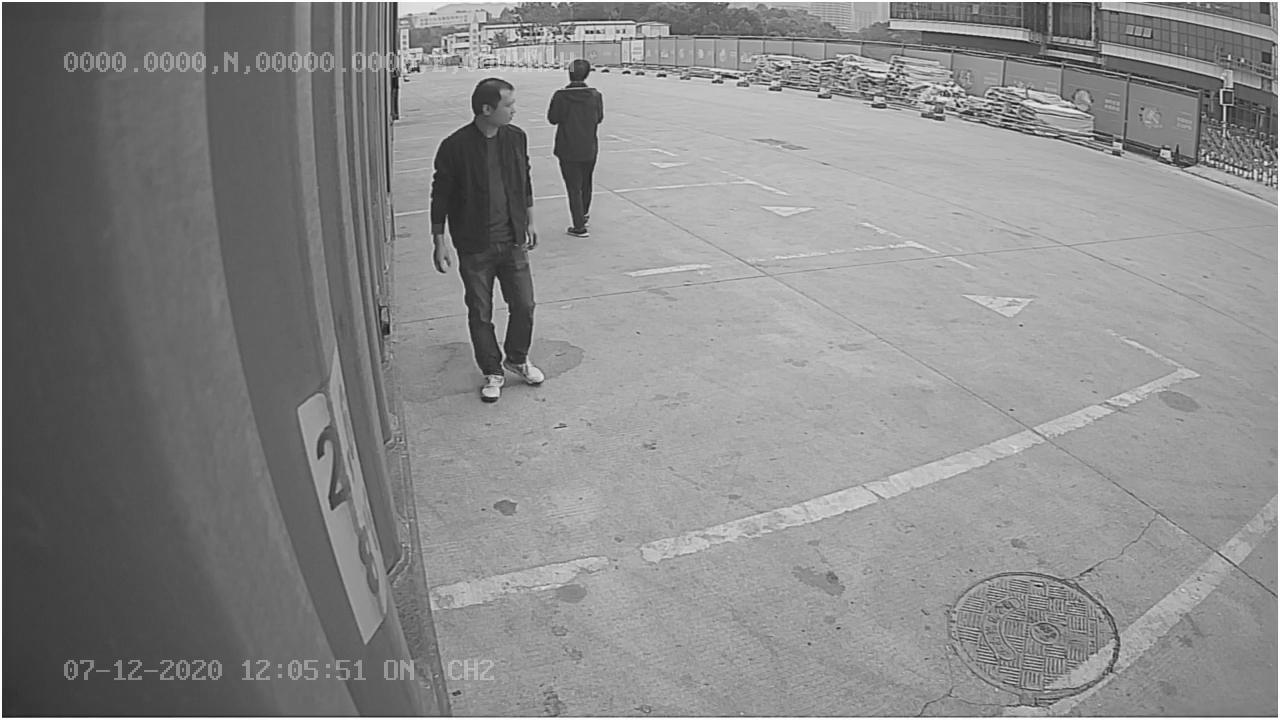person: (430, 74, 546, 409)
